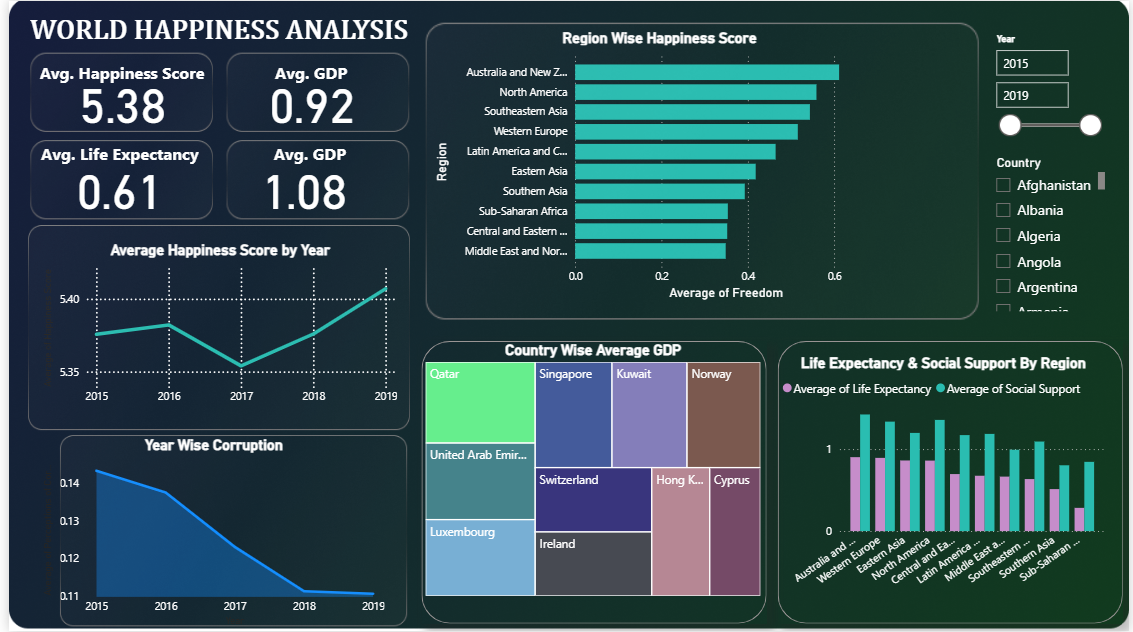

What the dashboard file says about the page in this screenshot:
{"tool":"powerbi","page":{"name":"Page 1","canvas":[1280,720],"ordinal":0},"visuals":[{"type":"image","box":[17.6,54.1,223.7,100.2],"z":0},{"type":"card","fields":{"Values":["Avg(full clean data.Happiness Score)"]},"box":[57.4,93.9,144.1,60.4],"z":1000},{"type":"textbox","box":[29.9,63.7,199,35.7],"z":2000},{"type":"card","fields":{"Values":["Avg(full clean data.GDP)"]},"box":[274.2,93.9,144.1,60.4],"z":3000},{"type":"textbox","box":[256.3,63.7,179.8,49.4],"z":4000},{"type":"card","fields":{"Values":["Avg(full clean data.Life Expectancy)"]},"box":[54.9,193.5,144.1,60.4],"z":5000},{"type":"textbox","box":[30.2,157.8,193.5,49.4],"z":6000},{"type":"card","fields":{"Values":["Avg(full clean data.Social Support)"]},"box":[274.4,193.5,126.2,60.4],"z":7000},{"type":"textbox","box":[229.2,157.8,204.5,49.4],"z":8000},{"type":"lineChart","title":"Average Happiness Score by Year","fields":{"Category":["full clean data.Year"],"Y":["Avg(full clean data.Happiness Score)"]},"box":[34.3,274.4,414.4,196.2],"z":9000},{"type":"clusteredBarChart","title":"Region Wise Happiness Score","fields":{"Category":["full clean data.Region"],"Y":["Avg(full clean data.Freedom)"]},"box":[481.6,31.6,524.2,315.6],"z":10000},{"type":"image","box":[471.4,0,641.4,388.6],"z":11000},{"type":"image","box":[17.1,240,445.7,265.7],"z":12000},{"type":"image","box":[241.2,54.1,223.7,100.2],"z":13000},{"type":"image","box":[17.8,153.7,223.7,100.2],"z":14000},{"type":"image","box":[233.3,153.7,223.7,100.2],"z":15000},{"type":"treemap","title":"Country Wise Average GDP","fields":{"Group":["full clean data.Country"],"Values":["Avg(full clean data.GDP)"]},"box":[472,388.3,392.5,296.4],"z":16000},{"type":"stackedAreaChart","title":"Year Wise Corruption","fields":{"Y":["Avg(full clean data.Perceptions of Corruption)"],"Category":["full clean data.Year"]},"box":[34.3,497.1,400,222.9],"z":17000},{"type":"image","box":[41.4,491.4,430,228.6],"z":18000},{"type":"shape","box":[471.4,388.6,394.3,322.9],"z":19000},{"type":"textbox","box":[8.6,11.4,462.9,52.9],"z":20000},{"type":"clusteredColumnChart","title":"Life Expectancy & Social Support By Region","fields":{"Category":["full clean data.Region"],"Y":["Avg(full clean data.Life Expectancy)","Avg(full clean data.Social Support)"]},"box":[878.6,402.9,378.6,295.7],"z":21000},{"type":"shape","box":[878.6,388.6,394.3,322.9],"z":22000},{"type":"slicer","fields":{"Values":["full clean data.Country"]},"box":[1115.7,171.4,141.4,188.6],"z":23000},{"type":"slicer","fields":{"Values":["full clean data.Year"]},"box":[1115.7,31.4,141.4,140],"z":24000}]}

Visuals, with their boxes in screenshot pixels (x1, y1, x2, y2), scaled from the page's 1280x720 canvas onto the 1133x632 screenshot:
image: pyautogui.locateOnScreen(16, 47, 214, 135)
card - Avg(full clean data.Happiness Score): pyautogui.locateOnScreen(51, 82, 178, 135)
textbox: pyautogui.locateOnScreen(26, 56, 203, 87)
card - Avg(full clean data.GDP): pyautogui.locateOnScreen(243, 82, 370, 135)
textbox: pyautogui.locateOnScreen(227, 56, 386, 99)
card - Avg(full clean data.Life Expectancy): pyautogui.locateOnScreen(49, 170, 176, 223)
textbox: pyautogui.locateOnScreen(27, 139, 198, 182)
card - Avg(full clean data.Social Support): pyautogui.locateOnScreen(243, 170, 355, 223)
textbox: pyautogui.locateOnScreen(203, 139, 384, 182)
"Average Happiness Score by Year" lineChart: pyautogui.locateOnScreen(30, 241, 397, 413)
"Region Wise Happiness Score" clusteredBarChart: pyautogui.locateOnScreen(426, 28, 890, 305)
image: pyautogui.locateOnScreen(417, 0, 985, 341)
image: pyautogui.locateOnScreen(15, 211, 410, 444)
image: pyautogui.locateOnScreen(213, 47, 412, 135)
image: pyautogui.locateOnScreen(16, 135, 214, 223)
image: pyautogui.locateOnScreen(207, 135, 405, 223)
"Country Wise Average GDP" treemap: pyautogui.locateOnScreen(418, 341, 765, 601)
"Year Wise Corruption" stackedAreaChart: pyautogui.locateOnScreen(30, 436, 384, 631)
image: pyautogui.locateOnScreen(37, 431, 417, 631)
shape: pyautogui.locateOnScreen(417, 341, 766, 625)
textbox: pyautogui.locateOnScreen(8, 10, 417, 56)
"Life Expectancy & Social Support By Region" clusteredColumnChart: pyautogui.locateOnScreen(778, 354, 1113, 613)
shape: pyautogui.locateOnScreen(778, 341, 1127, 625)
slicer - full clean data.Country: pyautogui.locateOnScreen(988, 150, 1113, 316)
slicer - full clean data.Year: pyautogui.locateOnScreen(988, 28, 1113, 150)
